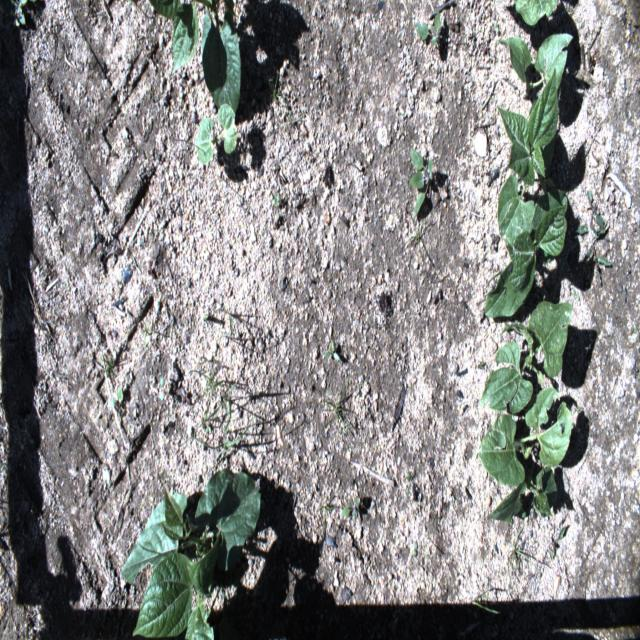crop: (118, 467, 261, 585), (476, 387, 572, 523), (147, 0, 240, 122), (495, 66, 558, 246), (484, 188, 568, 318), (480, 301, 573, 412), (134, 531, 220, 639), (496, 33, 573, 93), (194, 102, 238, 162), (514, 0, 558, 25)
weed: (178, 399, 254, 461), (507, 525, 542, 593), (321, 371, 352, 436), (409, 147, 432, 216), (413, 7, 440, 48), (264, 71, 286, 104), (8, 0, 28, 27), (340, 496, 359, 517), (324, 340, 341, 360), (109, 386, 123, 407)
